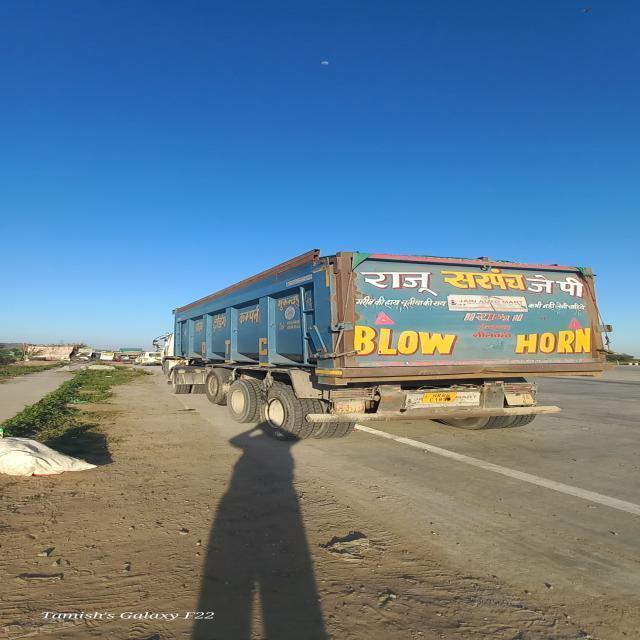uncovered: (174, 233, 594, 444)
